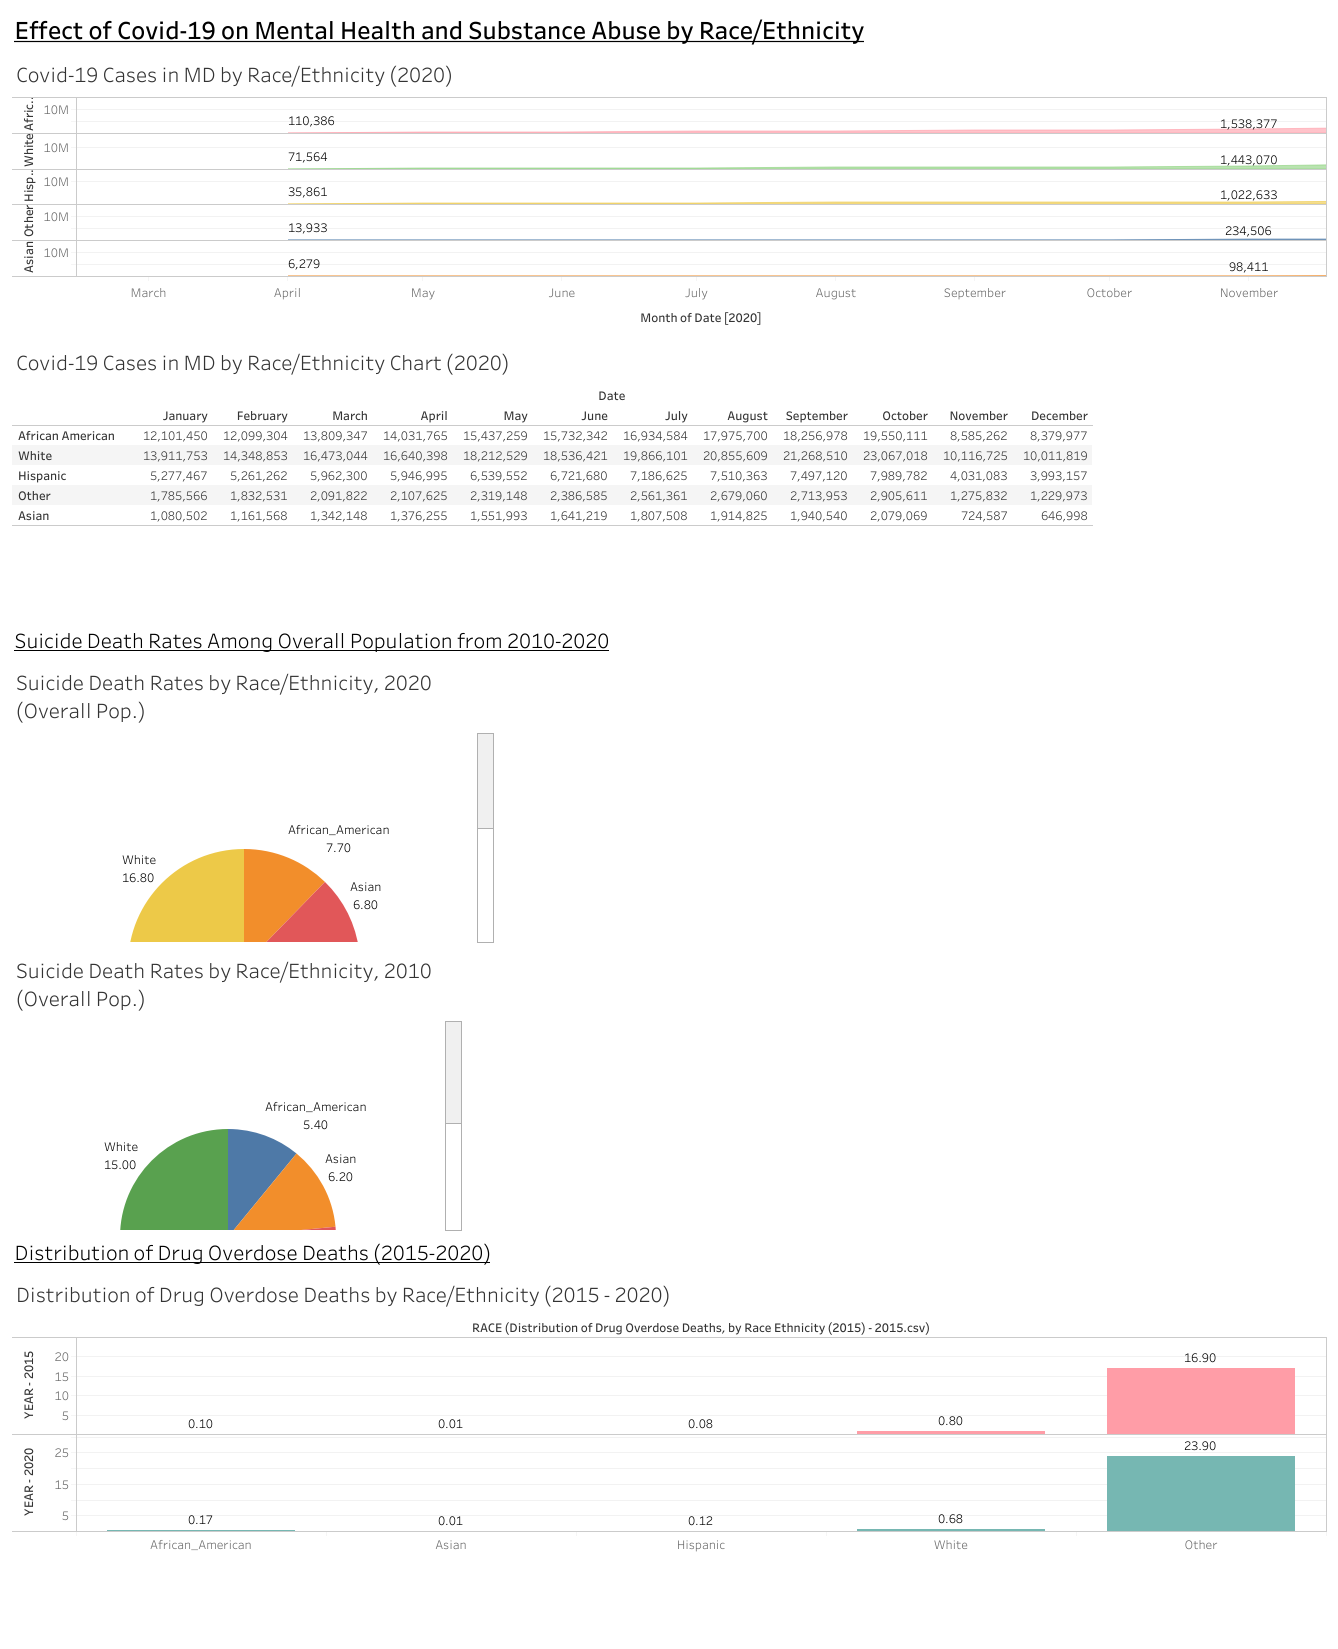

What the dashboard file says about the page in this screenshot:
{"tool":"tableau","page":{"name":"Dashboard 1","canvas":[2000,3000],"ordinal":0},"visuals":[{"type":"text","box":[94,16.5,1916,27.8]},{"type":"worksheet","title":"Covid in MD","mark":"Area","rows":["African_American","White","Hispanic","Other","Asian"],"cols":["DATE"],"box":[86,59,904,364]},{"type":"worksheet","title":"Covid in MD Chart","mark":"Automatic","cols":["DATE"],"box":[1035,92.2,560,275.2]},{"type":"text","box":[246,455.2,642,22.5]},{"type":"worksheet","title":"2020 - Suicide Death Rates","mark":"Pie","box":[623,498,427,359]},{"type":"worksheet","title":"2010 - Suicide Death Rate","mark":"Pie","box":[81,499,446,356]},{"type":"text","box":[298,884.2,498,22.5]},{"type":"worksheet","title":"Distr. of Drug Overdose Deaths","mark":"Bar","cols":["RACE (Distribution of Drug Overdose Deaths, by Race_Ethnicit"],"box":[105,944.2,895,363]}]}

Visuals, with their boxes on the page's 2000x3000 design canvas (x1, y1, x2, y2). These are canvas units, not pixel positions in the 1338x1649 screenshot, which may show the page scaled, cropped or inside an application window:
text: box(94, 16, 2010, 44)
"Covid in MD" worksheet (Area marks): box(86, 59, 990, 423)
"Covid in MD Chart" worksheet: box(1035, 92, 1595, 367)
text: box(246, 455, 888, 478)
"2020 - Suicide Death Rates" worksheet (Pie marks): box(623, 498, 1050, 857)
"2010 - Suicide Death Rate" worksheet (Pie marks): box(81, 499, 527, 855)
text: box(298, 884, 796, 907)
"Distr. of Drug Overdose Deaths" worksheet (Bar marks): box(105, 944, 1000, 1307)
